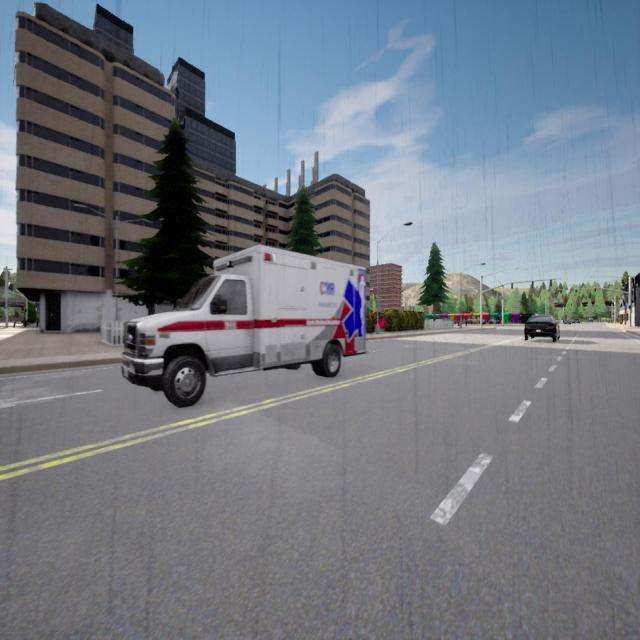Vehicle: (122, 247, 365, 406), (525, 314, 559, 341), (468, 317, 486, 324), (489, 319, 500, 324), (458, 320, 467, 326), (573, 319, 580, 324), (564, 320, 571, 324), (588, 318, 593, 322)
traffic_light: (550, 280, 552, 286), (511, 283, 513, 289), (594, 288, 596, 294), (629, 306, 631, 312), (560, 291, 562, 295), (532, 282, 533, 288), (576, 290, 577, 294)
